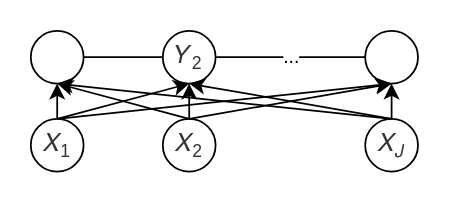
This 449x202 diagram has some shape labels left out. Each missing label, with the centre of its shape:
"𝑌 1" goes at (x=56, y=56).
"𝑌 𝐾" goes at (x=390, y=56).
